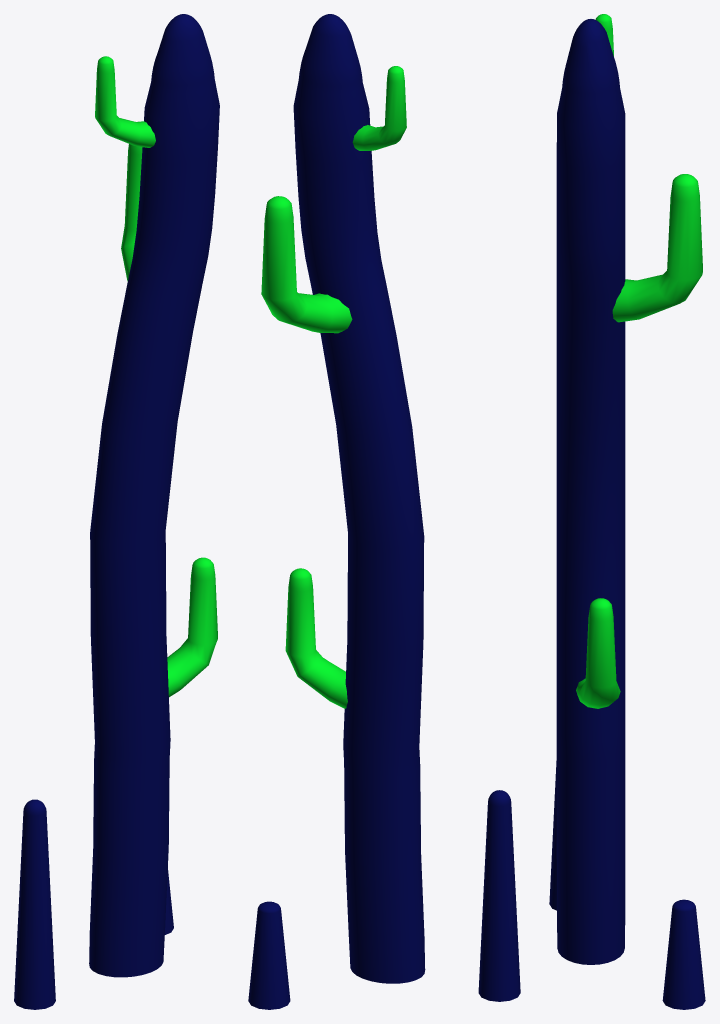
File: coral1.FBX
The picture shows the model from 3 angles, left to right: view 1: azimuth 30°, elevation 25°; view 2: azimuth 150°, elevation 25°; view 3: azimuth 270°, elevation 25°; orthographic projection. The views are drawn at different scales.
Visible parts, largest first — view 1: Capsule001, Capsule005, Capsule002, Capsule004, Capsule003; view 2: Capsule001, Capsule005, Capsule003, Capsule002, Capsule006, Capsule004; view 3: Capsule001, Capsule003, Capsule006, Capsule002, Capsule005.
Part boxes in pixels (x1,y1,x2,y2): Capsule001: (89, 14, 219, 977); Capsule005: (14, 799, 55, 1009); Capsule002: (167, 557, 217, 697); Capsule004: (95, 56, 155, 147); Capsule003: (121, 144, 142, 281); Capsule001: (293, 14, 425, 983); Capsule005: (478, 790, 520, 1001); Capsule003: (261, 196, 352, 333); Capsule002: (285, 568, 347, 708); Capsule006: (248, 901, 290, 1009); Capsule004: (352, 66, 406, 150); Capsule001: (556, 19, 625, 964); Capsule003: (612, 174, 702, 322); Capsule006: (662, 899, 705, 1009); Capsule002: (576, 598, 620, 708); Capsule005: (549, 761, 556, 910).
Bounding box in the file's own units: 3.2 × 13.6 × 1.98.
